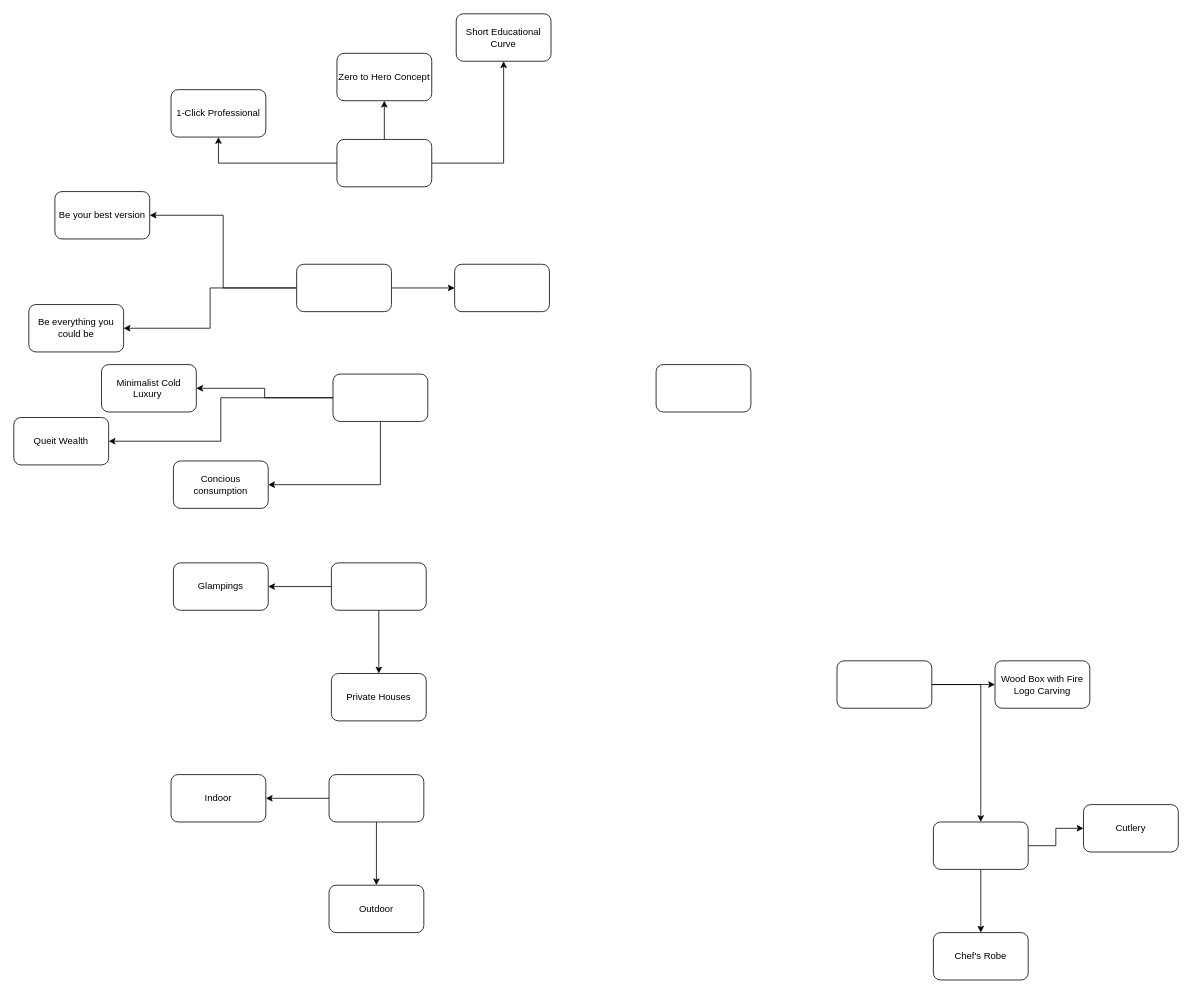
The diagram is 1192 pixels wide and 994 high, and some of its shapes have lost their labels. Each missing label, with the centre of its shape:
"Accesories" belongs at [980,845].
"BBQ" belongs at [703,388].
"Best for" belongs at [378,586].
"Bundle" belongs at [884,684].
"Concept" belongs at [380,397].
"Customer Value Poposition" belongs at [384,163].
"Slogans" belongs at [343,287].
"Usage" belongs at [376,798].
